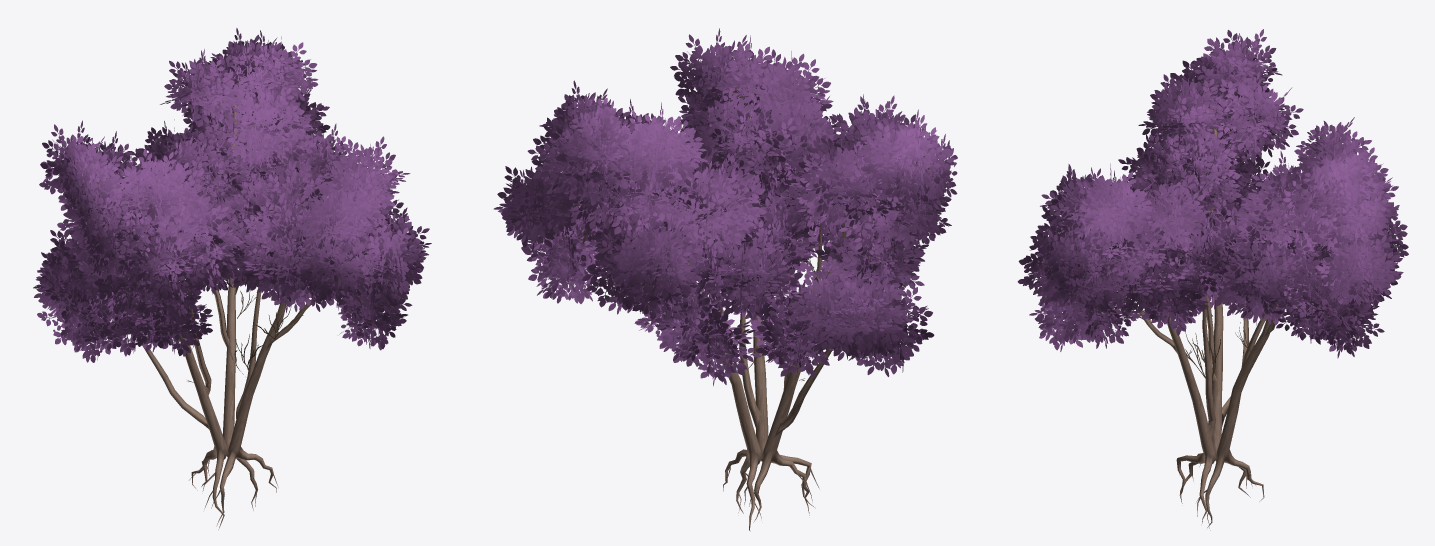
Rendered from fairy_canopy_gloam_1.glb.
3 renders of one model, left to right at view 1: azimuth 30°, elevation 25°; view 2: azimuth 150°, elevation 25°; view 3: azimuth 270°, elevation 25°, orthographic. The views are drawn at different scales.
Visible parts, largest first — view 1: fairy_canopy_gloam_1; view 2: fairy_canopy_gloam_1; view 3: fairy_canopy_gloam_1.
Part boxes in pixels (x1,y1,x2,y2): fairy_canopy_gloam_1: [33, 28, 431, 529]; fairy_canopy_gloam_1: [493, 28, 957, 531]; fairy_canopy_gloam_1: [1017, 29, 1408, 530].
Size of the model in its own units: 7.59 by 8.94 by 7.62.
2 materials, 2 textured.
